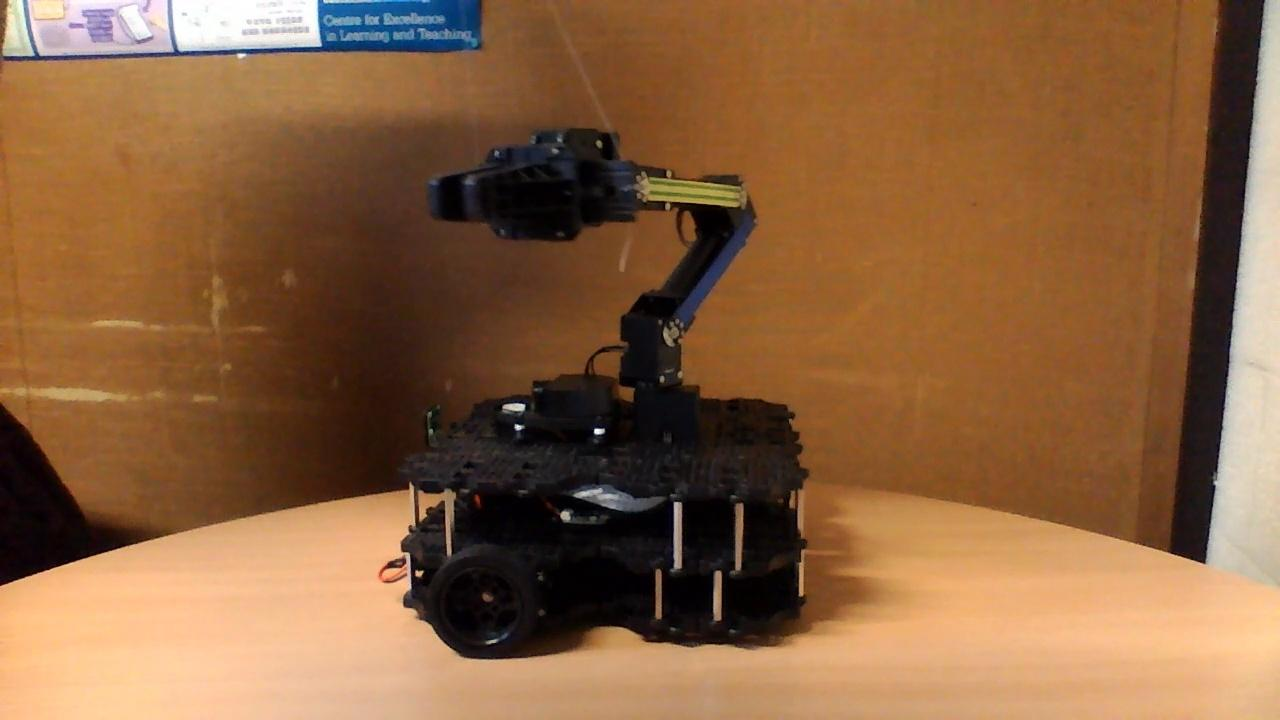Arm: (616, 213, 763, 346)
Hand: (425, 124, 655, 248)
Wrist: (623, 161, 751, 216)
base: (375, 368, 813, 661)
